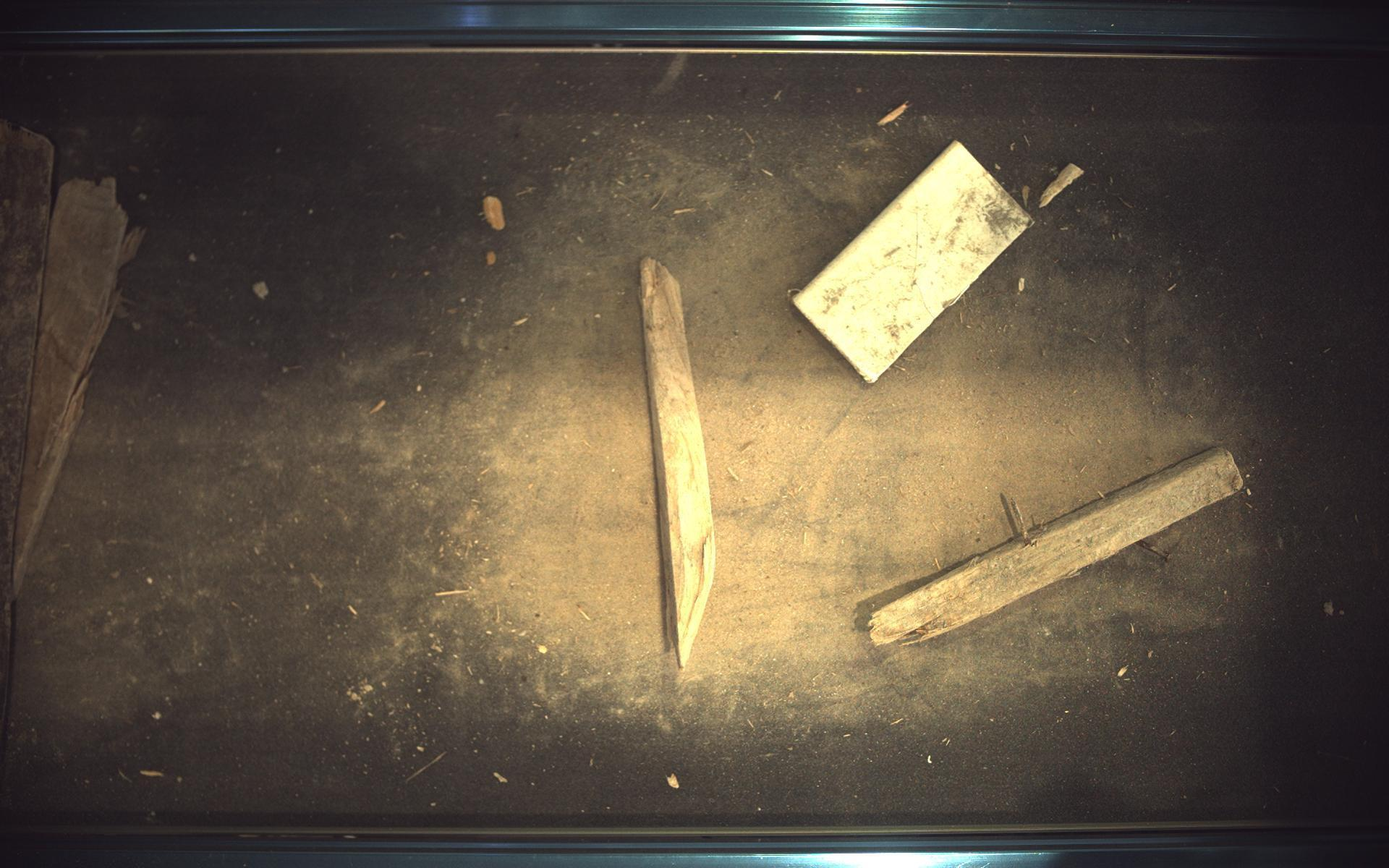wood: (871, 448, 1246, 646), (794, 140, 1034, 383), (642, 257, 717, 668)
